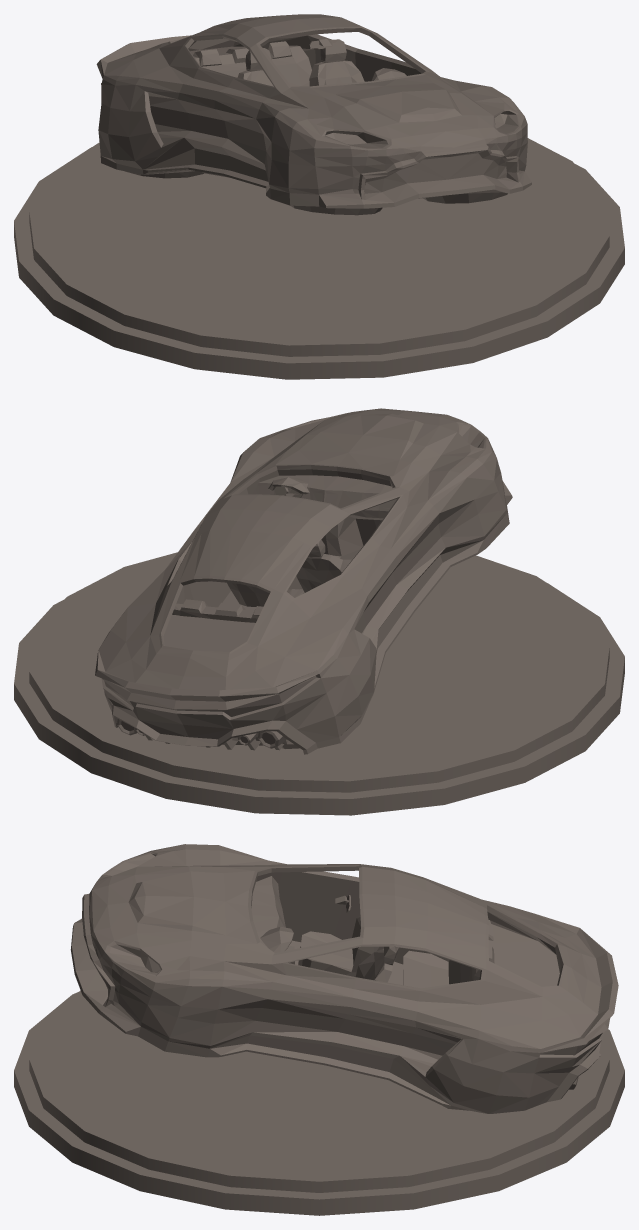
File: CarTrophy_01.fbx
The picture shows the model from 3 angles, top to bottom: view 1: azimuth 30°, elevation 25°; view 2: azimuth 150°, elevation 25°; view 3: azimuth 270°, elevation 25°; orthographic projection.
Parts seen in each view (by area): view 1: CarStatue_01; view 2: CarStatue_01; view 3: CarStatue_01.
Boxes of the visible parts, x1,y1,x2,y2 form: CarStatue_01: (14,14,624,379); CarStatue_01: (14,408,624,815); CarStatue_01: (14,844,624,1215).
Size of the model in its own units: 590 by 218 by 590.
